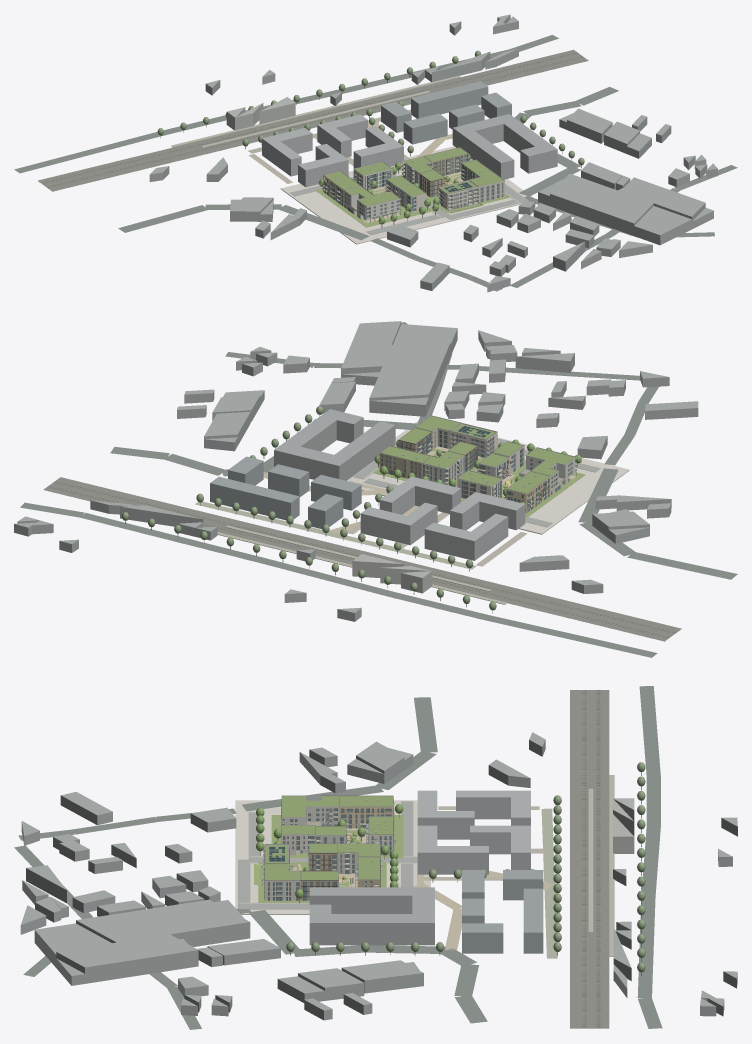
Rendered from bahnhofsareal.glb.
The picture shows the model from 3 angles, top to bottom: view 1: azimuth 30°, elevation 25°; view 2: azimuth 150°, elevation 25°; view 3: azimuth 270°, elevation 25°; orthographic projection. The views are drawn at different scales.
Visible parts, largest first — view 1: Kontext · Graue Baukörper (×5), Kontext · Bahngleise (×2), Kontext · Straßen und Freiflächen, Umfeld / Freianlagen (×3), Kontext · Umgebungsgrün, KWArtier · BF3 / Baukoerper, Umfeld / Vegetation, KWArtier · BF3 / Dach; view 2: Kontext · Graue Baukörper (×5), Kontext · Straßen und Freiflächen (×2), Kontext · Bahngleise (×2), Umfeld / Freianlagen (×3), Kontext · Umgebungsgrün, KWArtier · BF3 / Baukoerper, Umfeld / Vegetation, KWArtier · BF3 / Dach; view 3: Kontext · Graue Baukörper (×5), Kontext · Straßen und Freiflächen (×4), Kontext · Bahngleise (×3), Umfeld / Freianlagen (×3), Kontext · Umgebungsgrün, Umfeld / Vegetation, KWArtier · BF3 / Dach, KWArtier · BF3 / Baukoerper, Inklusion / Stadtgarten · BF3 / Dach.
Part boxes in pixels (x1,y1,x2,y2): Kontext · Graue Baukörper (×5): (149,14,717,292); Kontext · Bahngleise (×2): (38,49,588,191); Kontext · Straßen und Freiflächen: (14,35,737,291); Umfeld / Freianlagen (×3): (280,146,533,244); Kontext · Umgebungsgrün: (157,50,584,165); KWArtier · BF3 / Baukoerper: (344,191,400,220); Umfeld / Vegetation: (319,154,470,224); KWArtier · BF3 / Dach: (345,186,399,206); Kontext · Graue Baukörper (×5): (14,321,698,621); Kontext · Straßen und Freiflächen (×2): (20,322,737,657); Kontext · Bahngleise (×2): (43,477,681,641); Umfeld / Freianlagen (×3): (347,421,629,534); Kontext · Umgebungsgrün: (121,406,496,610); KWArtier · BF3 / Baukoerper: (519,456,576,494); Umfeld / Vegetation: (374,439,581,507); KWArtier · BF3 / Dach: (527,448,574,475); Kontext · Graue Baukörper (×5): (20,732,737,1020); Kontext · Straßen und Freiflächen (×4): (14,686,662,1029); Kontext · Bahngleise (×3): (570,690,614,1028); Umfeld / Freianlagen (×3): (235,800,430,914); Kontext · Umgebungsgrün: (286,762,645,972); Umfeld / Vegetation: (256,804,403,898); KWArtier · BF3 / Dach: (282,796,338,816); KWArtier · BF3 / Baukoerper: (281,807,339,825); Inklusion / Stadtgarten · BF3 / Dach: (340,796,393,806).
Size of the model in its own units: 457 by 16.24 by 407.
